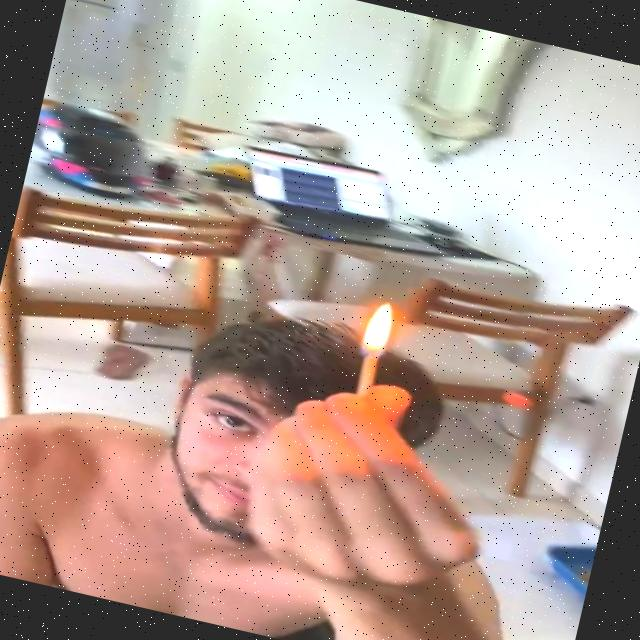fire: (359, 297, 397, 359)
